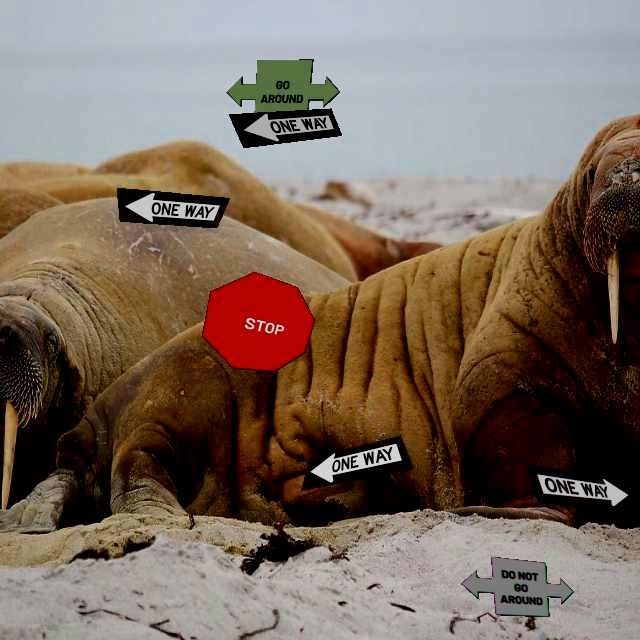DO_NOT_GO_AROUND: (460, 556, 574, 617)
GO_AROUND: (226, 59, 340, 123)
ONE_WAY_ left: (300, 435, 414, 491), (116, 187, 230, 228), (228, 108, 342, 148)
ONE_WAY_ right: (525, 463, 639, 510)
STOP: (201, 271, 315, 372)
